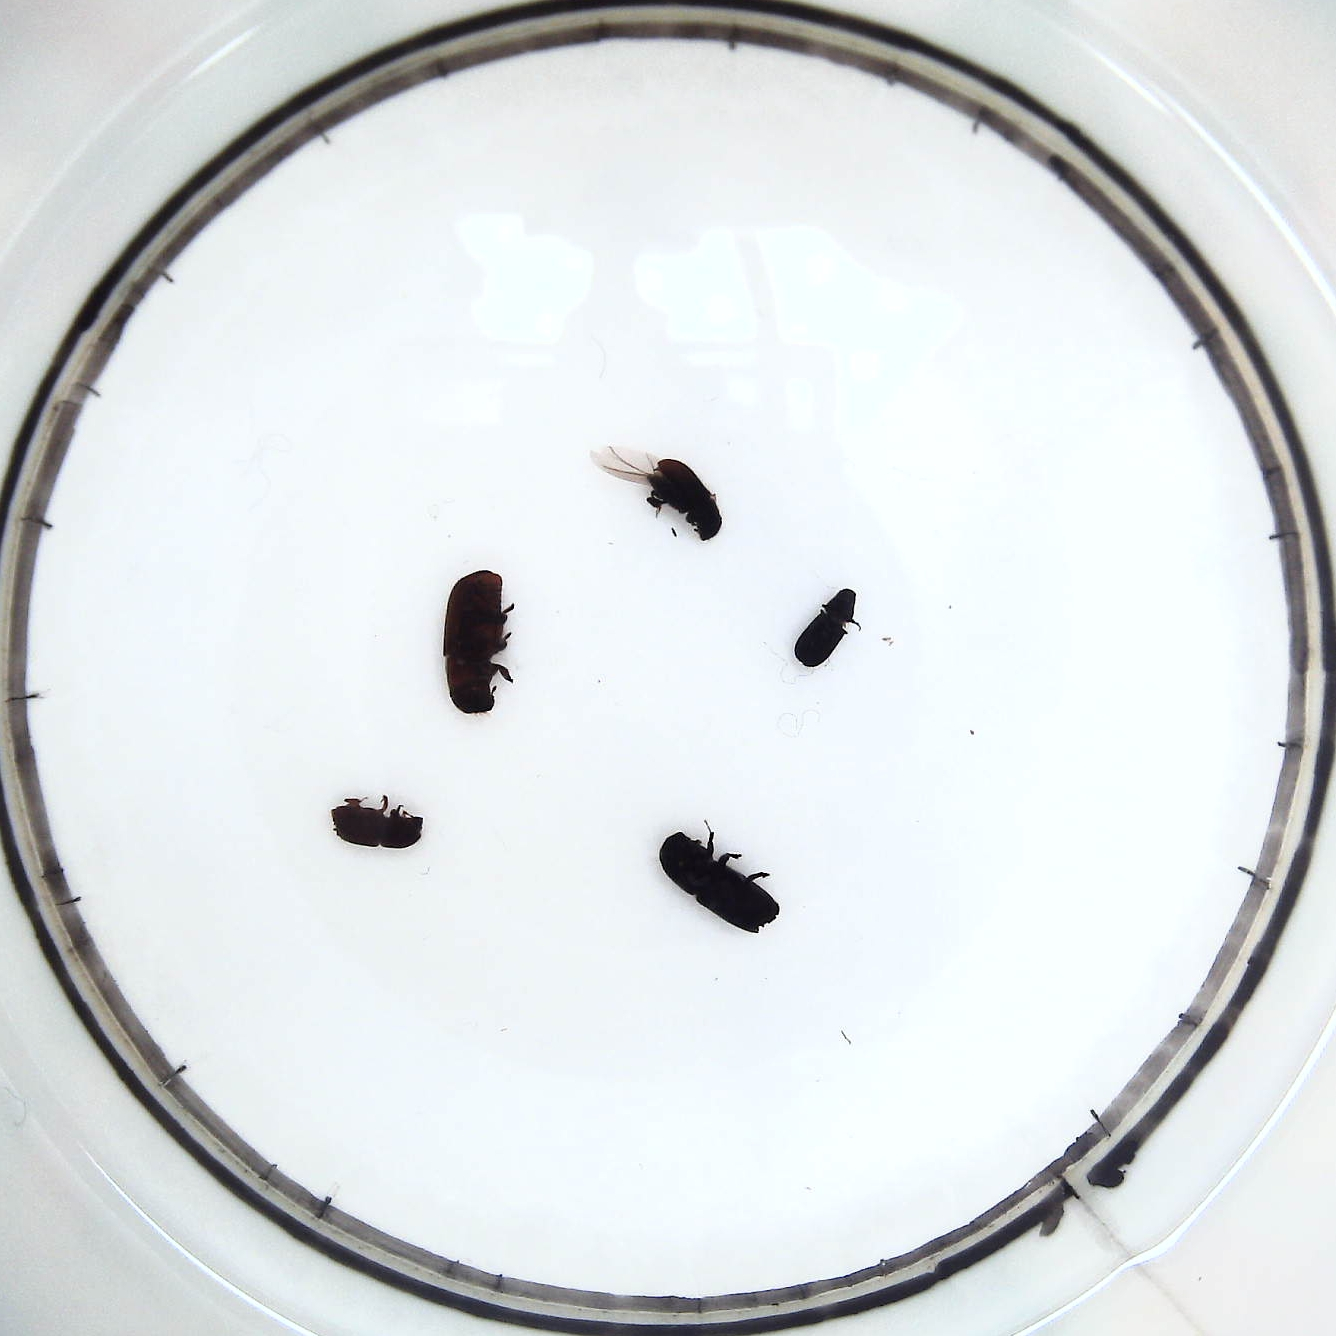Boerner: (659, 821, 793, 941)
Leconte: (437, 565, 522, 716)
armandi: (593, 443, 727, 548)
coleoptera: (790, 582, 863, 672)
linnaeus: (327, 792, 429, 858)
